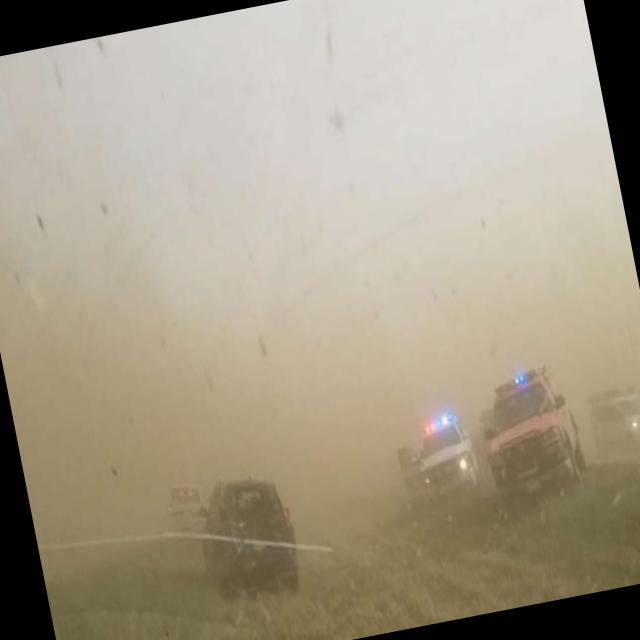car: (471, 358, 589, 516), (191, 466, 304, 600), (390, 405, 486, 506), (585, 382, 640, 459), (161, 471, 208, 535)
